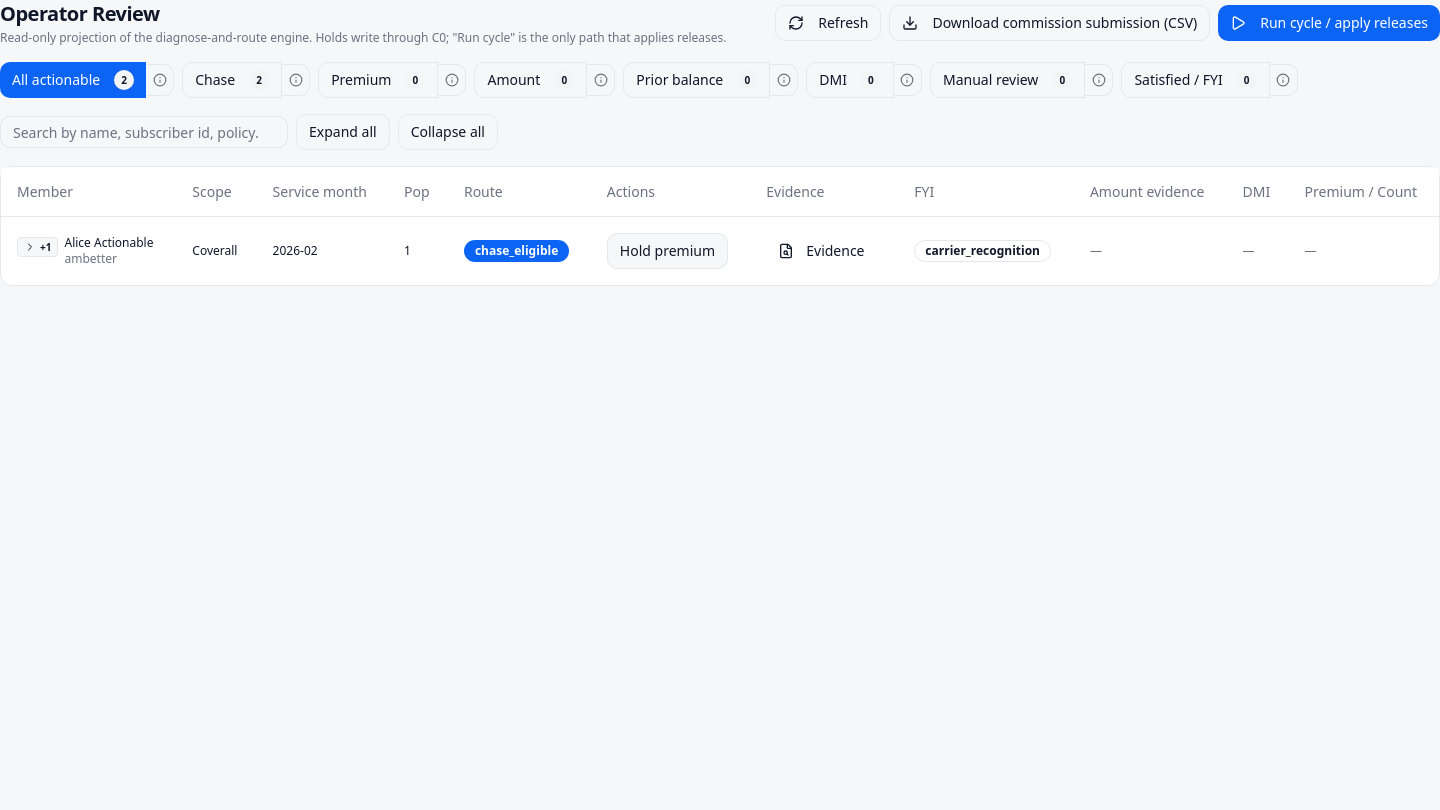
Test: OperatorReviewPage — Stage 3 hold actions + run-cycle › OR1: hold on the CLICKED Coverall row does NOT also write the Vix row
Later steps or results of the test are not shown.
Check: the number of rows with test id "op-row" is 1, box [1,216,1439,284]
Click the button with test id "member-toggle" at (38, 246), box [17,236,58,256]
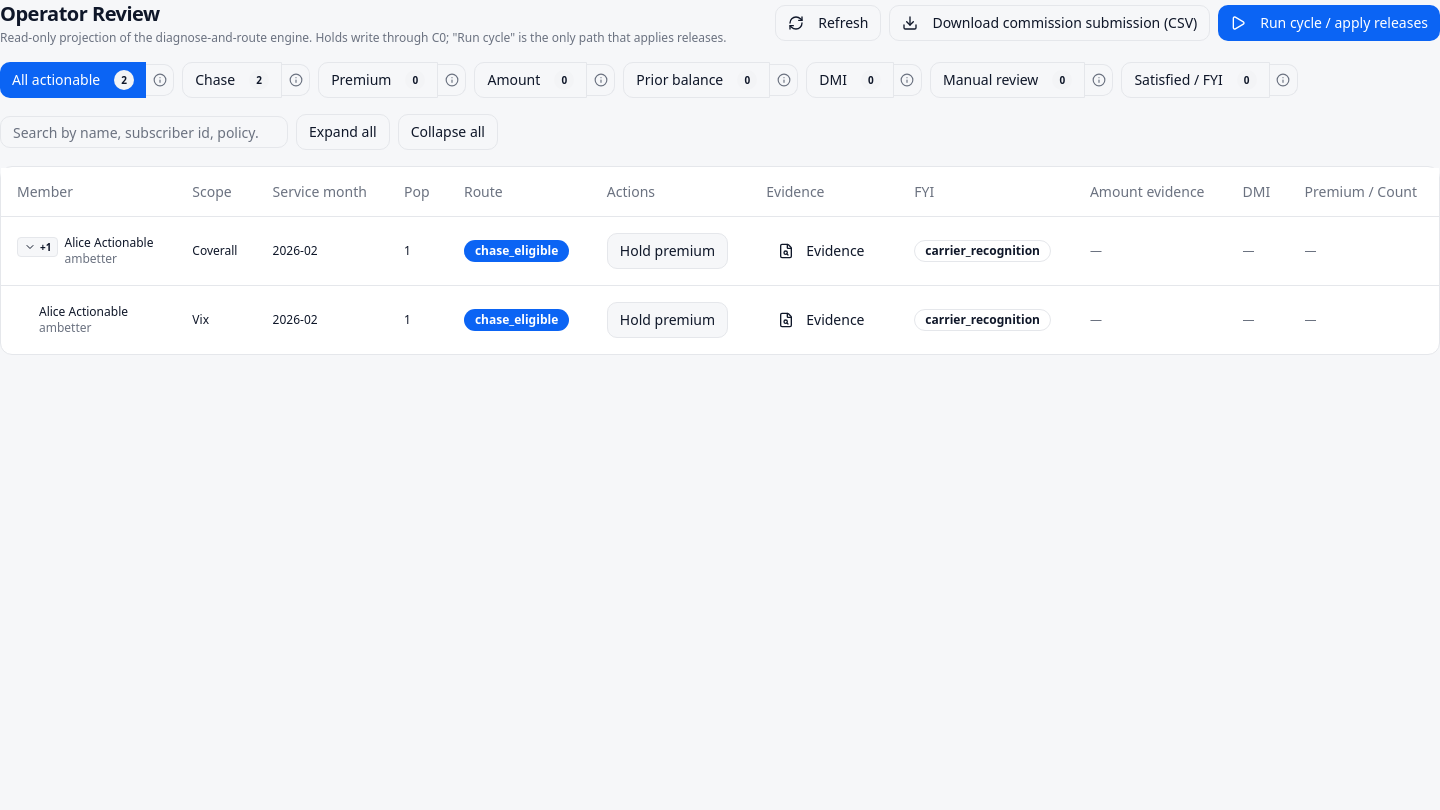
Check: the number of rows with test id "op-row" is 2, box [1,216,1439,285]; [1,285,1439,354]
Click the button with test id "action-hold_premium" at (667, 250), box [607,232,728,268]
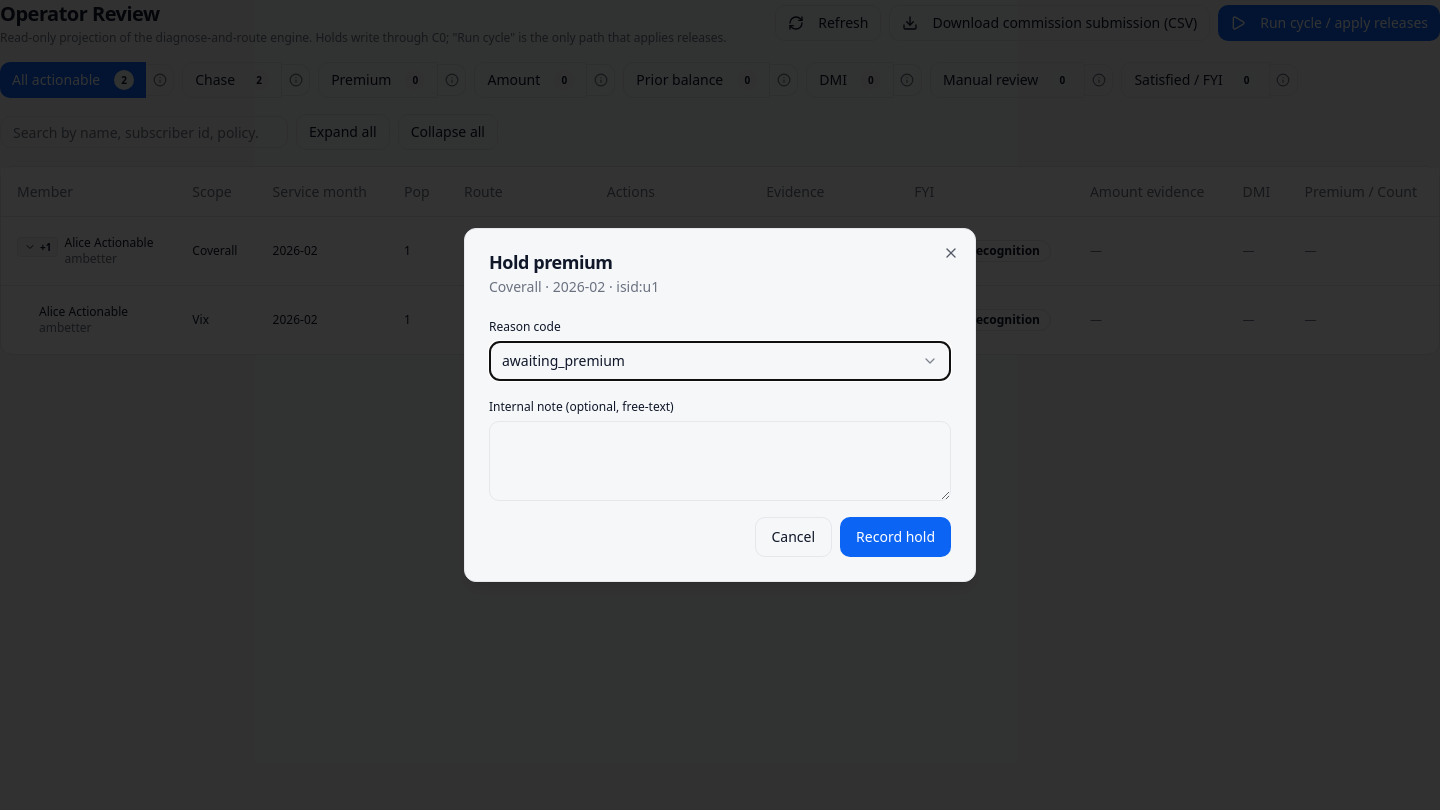
Check: the dialog with test id "hold-prompt" is shown, box [464,228,976,582]
